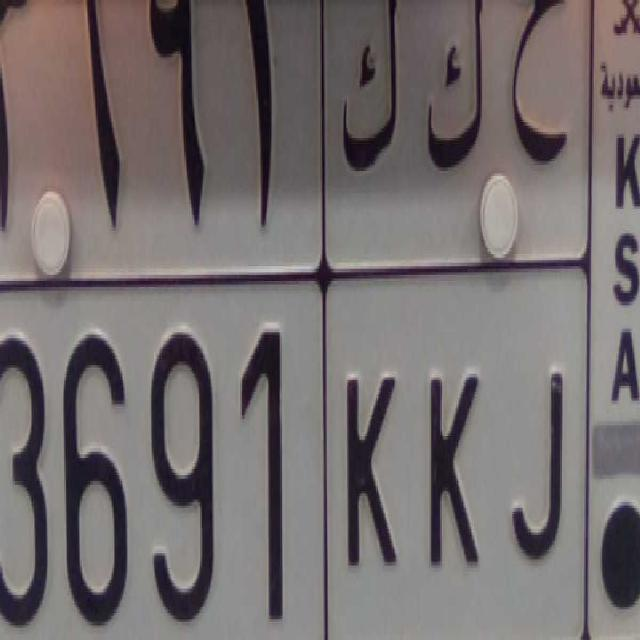license_plate: (0, 277, 580, 640)
